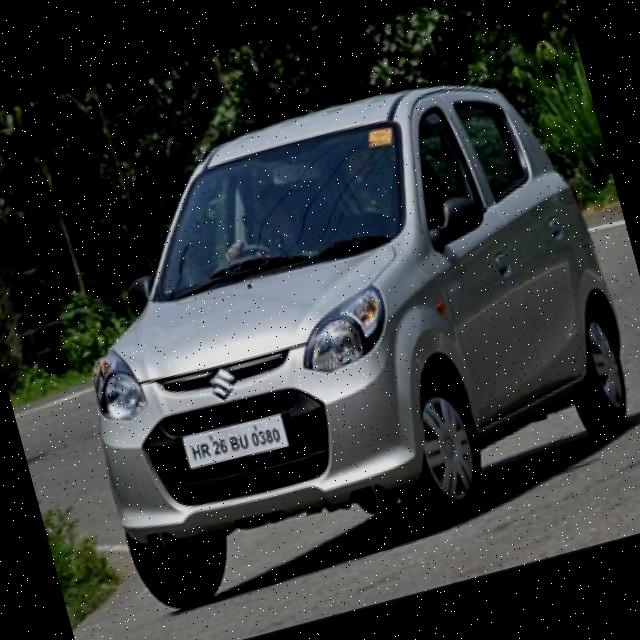Autre: (173, 400, 295, 482)
